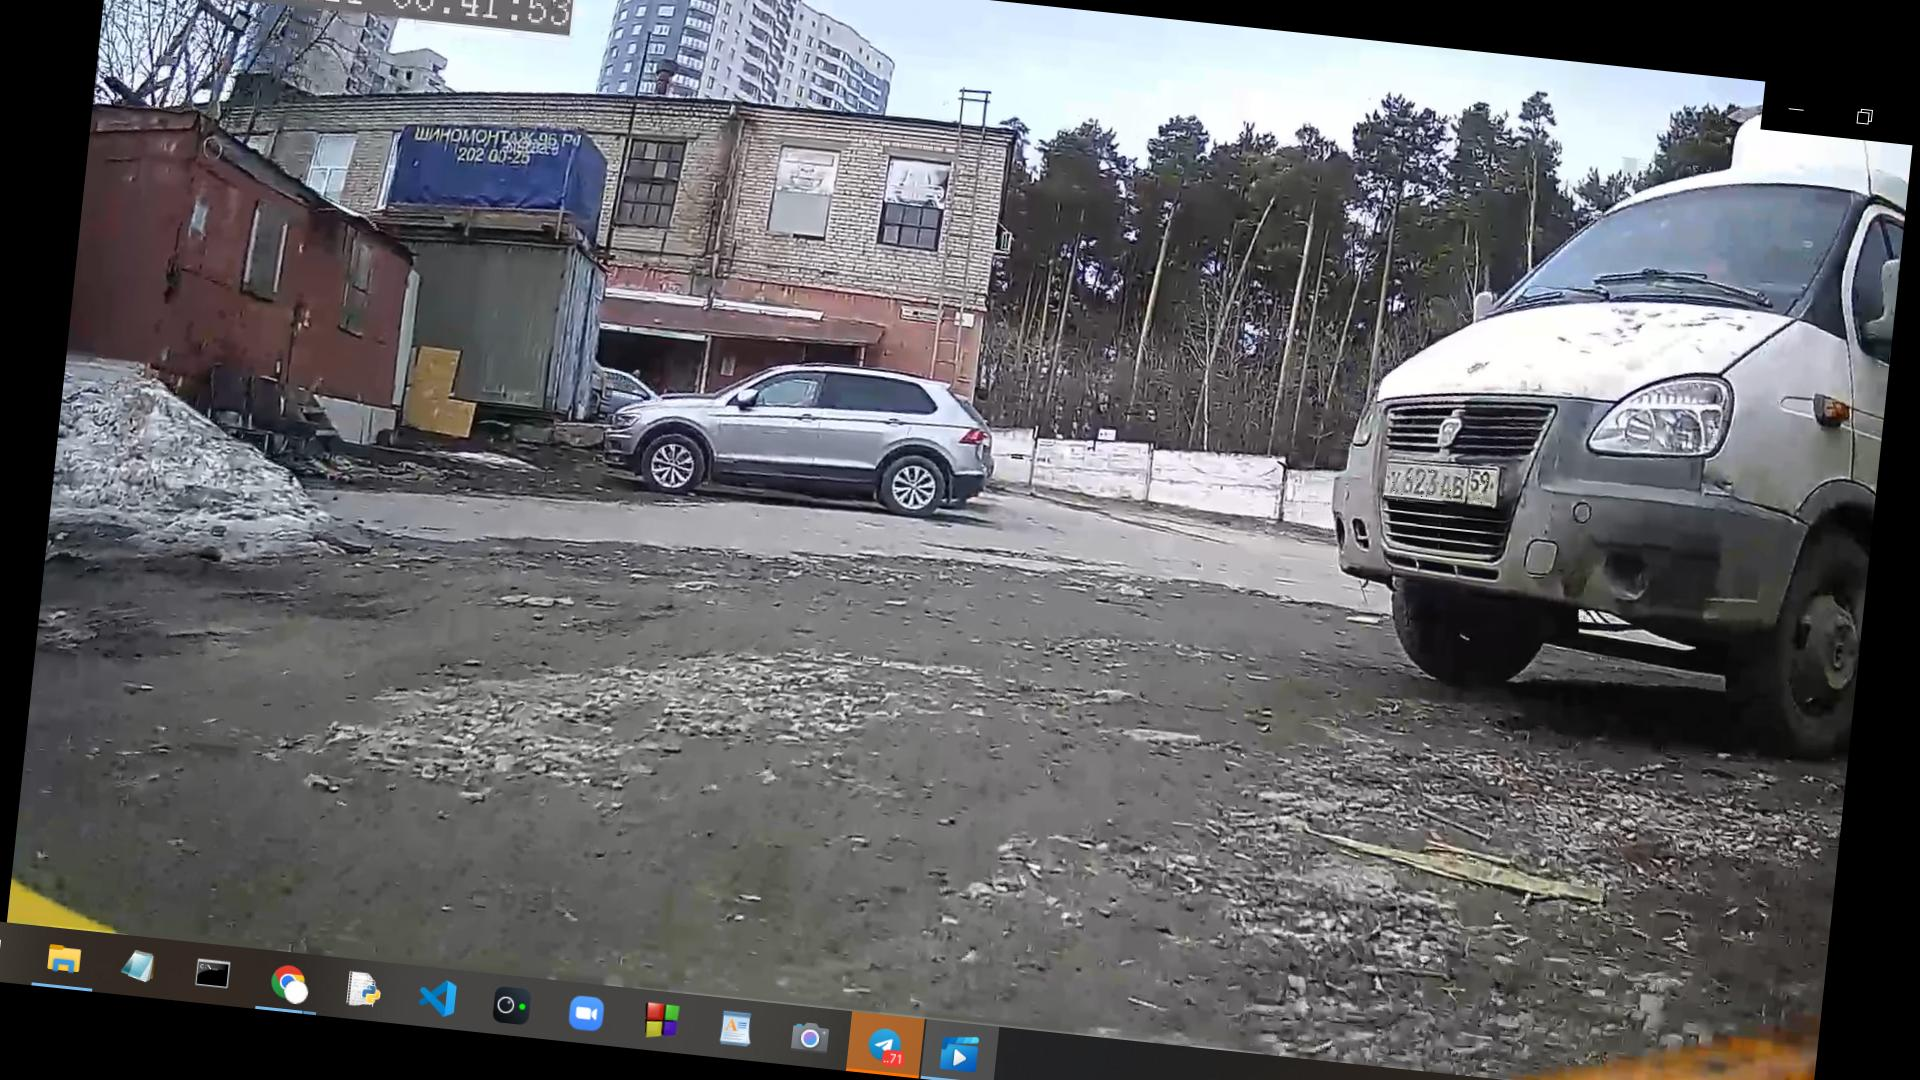plate: (1386, 467, 1498, 512)
